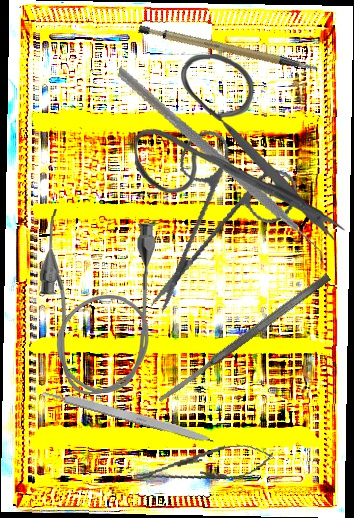Cannula: (38, 209, 156, 395)
Chopper: (89, 66, 350, 277)
Iris Scissors: (133, 52, 346, 246), (115, 113, 317, 315)
Needle Holder: (130, 438, 276, 494)
Scalpel Handle: (136, 1, 321, 100), (38, 384, 218, 446)
Spatula Surgical: (155, 272, 333, 405)
